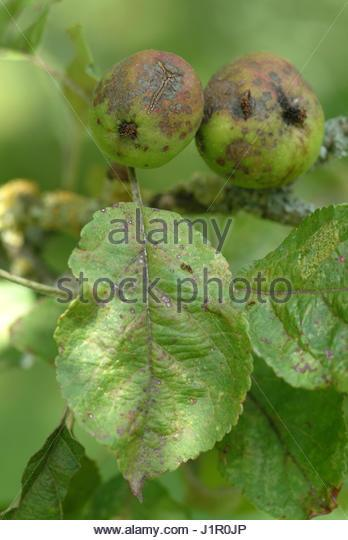Apple Scab Leaf: (54, 197, 263, 499), (228, 209, 348, 373)
